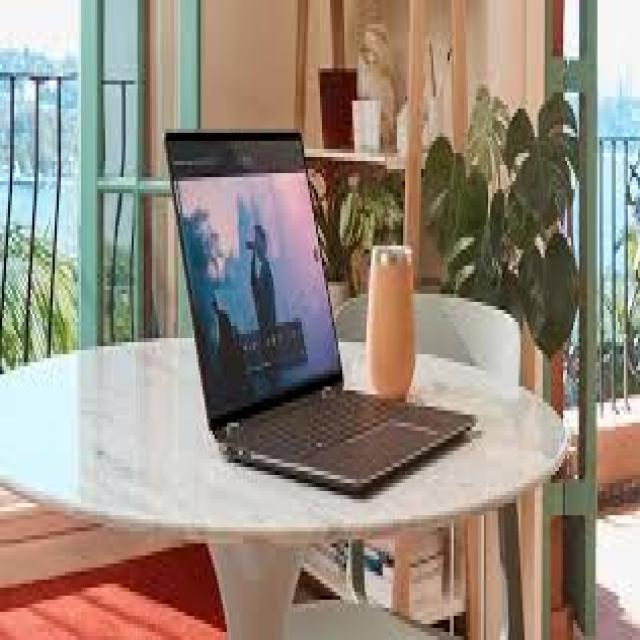others: (2, 4, 640, 531)
